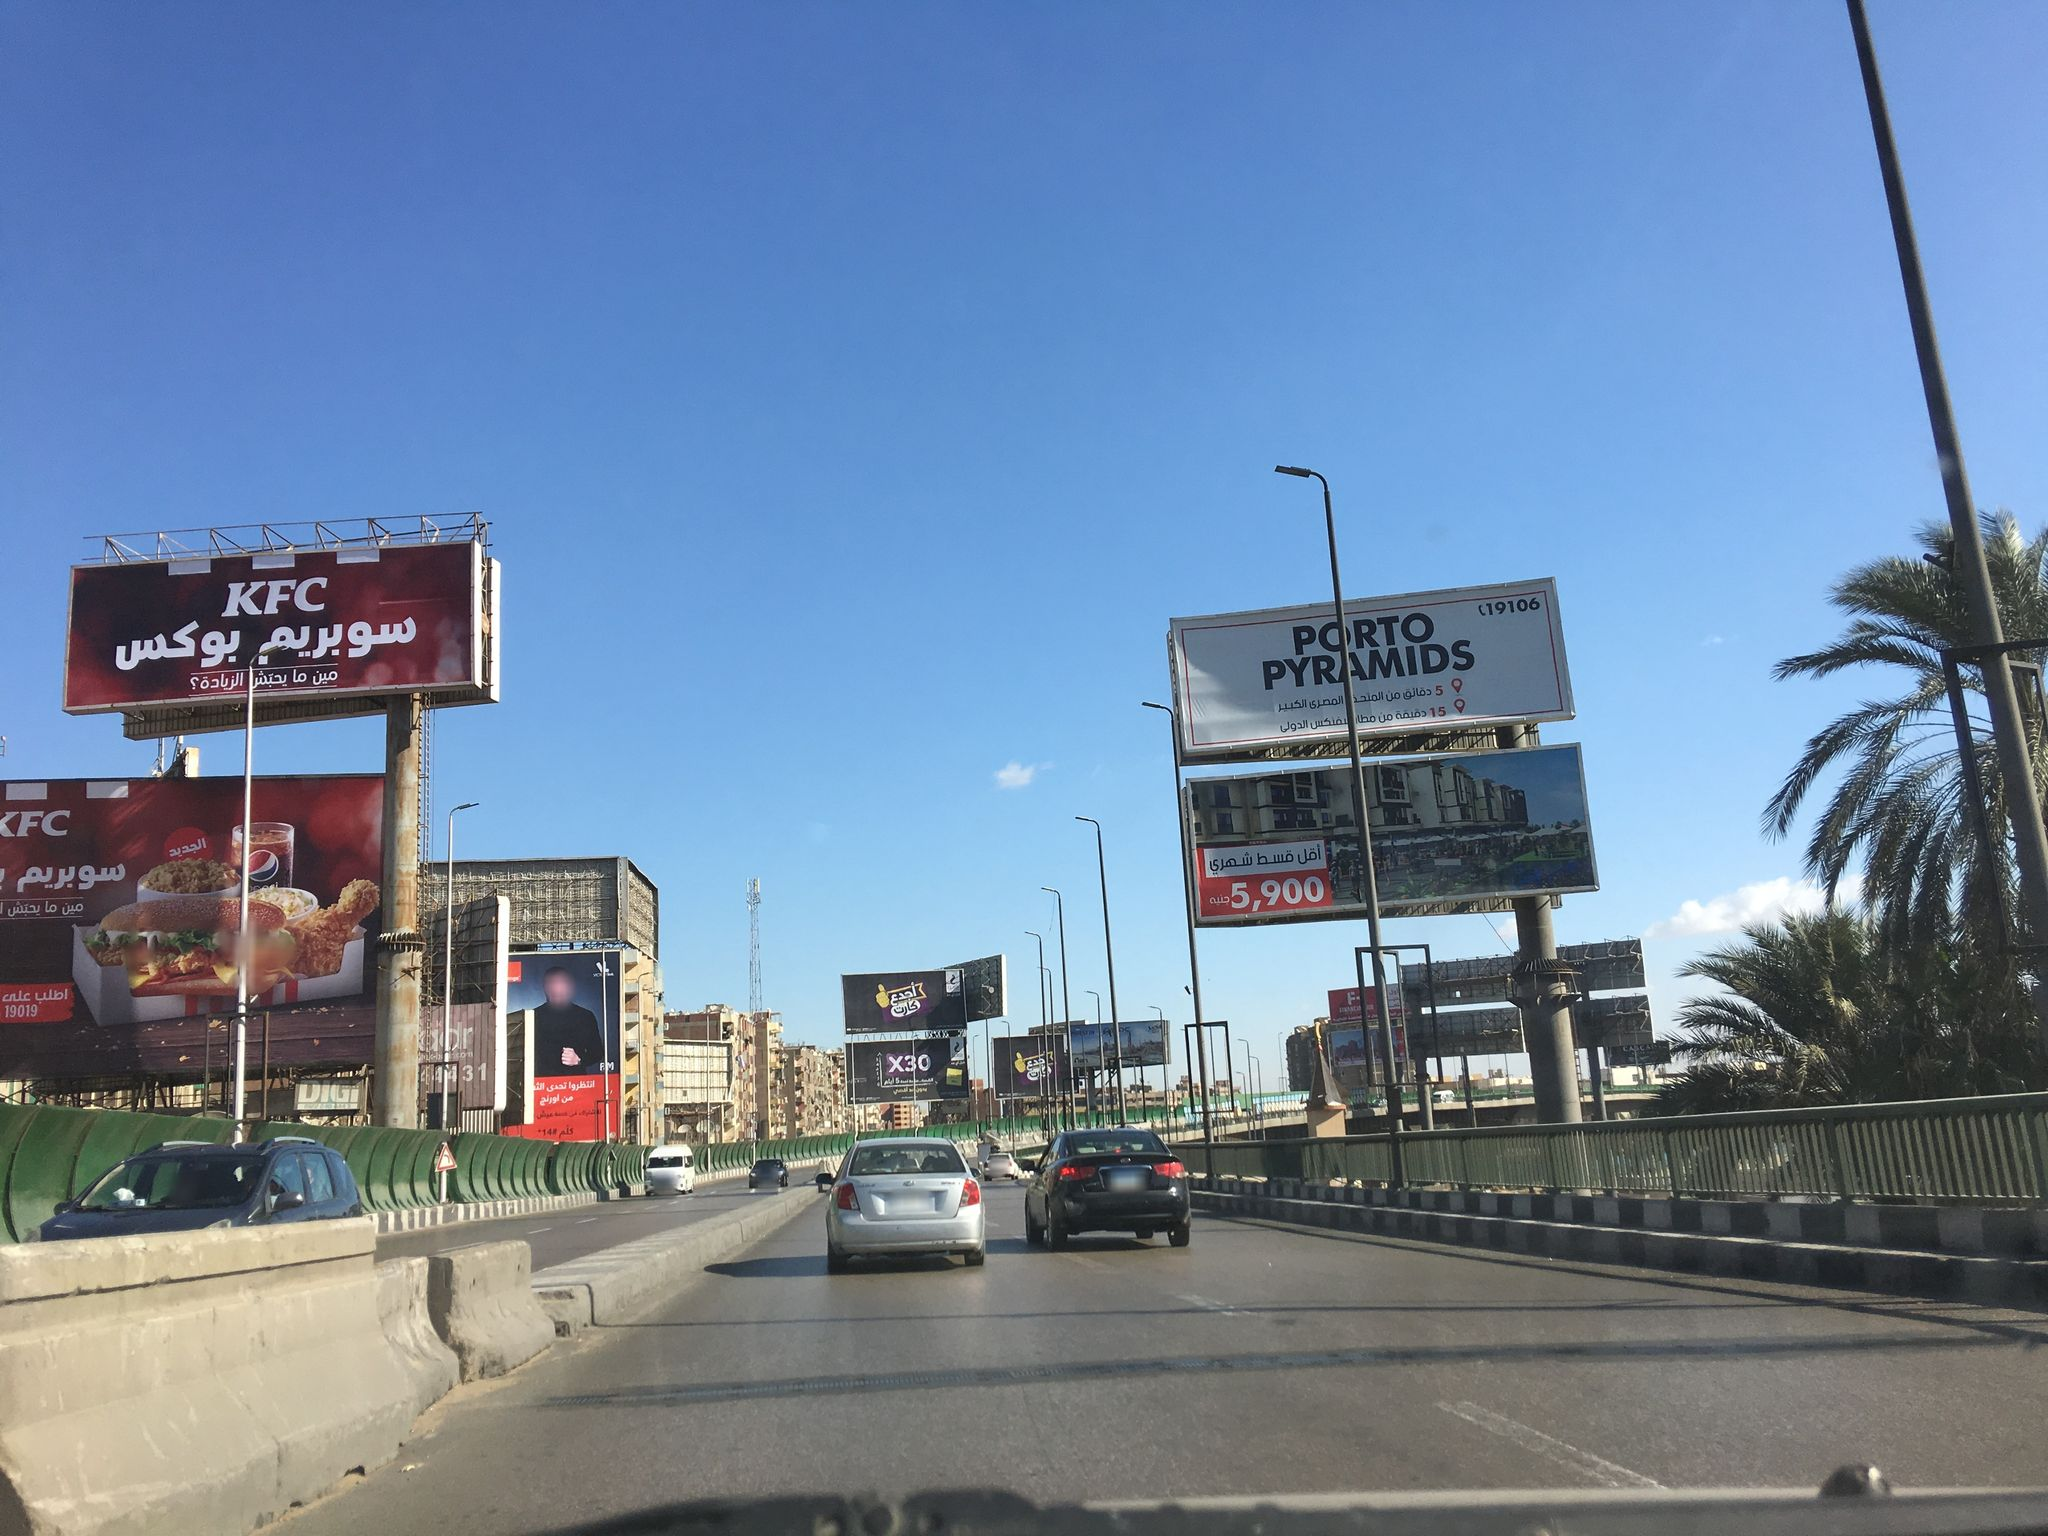car: (23, 1134, 361, 1241), (814, 1134, 989, 1265), (1021, 1128, 1190, 1249), (642, 1142, 695, 1194), (748, 1158, 789, 1187), (984, 1150, 1019, 1179)
